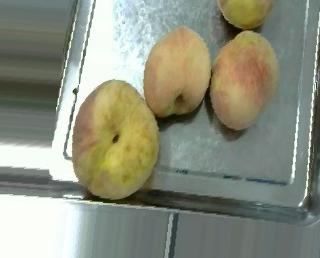Peach: (71, 78, 158, 198), (208, 29, 280, 131), (141, 26, 210, 117), (216, 0, 273, 27)
